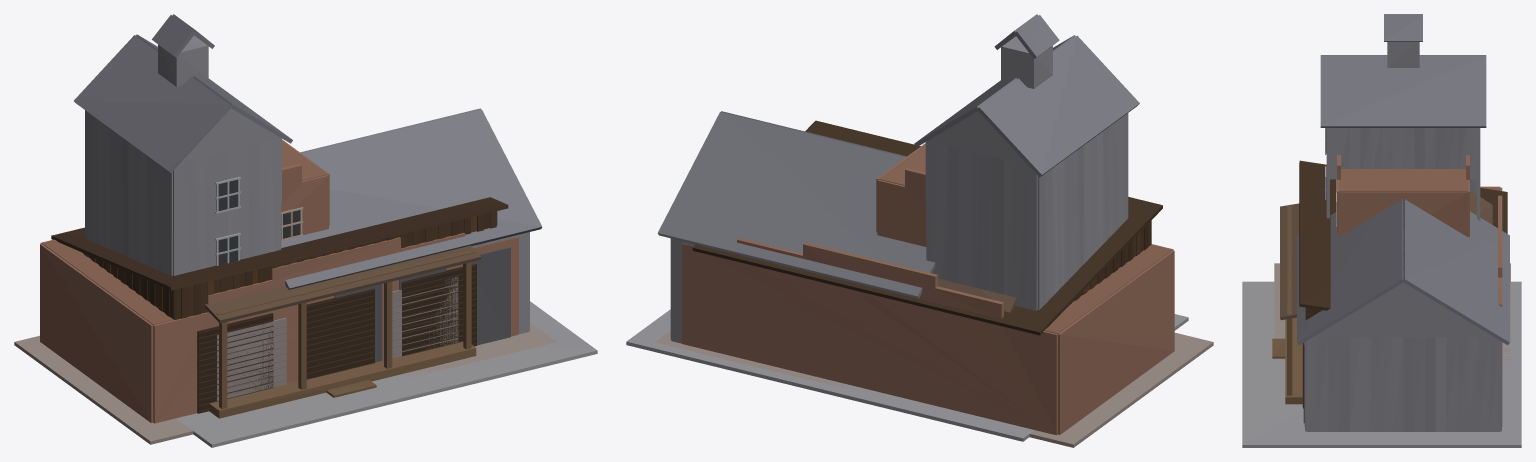
File: BusDesiertoEdificios.gltf
3 renders of one model, left to right at view 1: azimuth 30°, elevation 25°; view 2: azimuth 150°, elevation 25°; view 3: azimuth 270°, elevation 25°, orthographic. The views are drawn at different scales.
Parts seen in each view (by area): view 1: Granero, Garaje, Galpon, Casa; view 2: Granero, Garaje, Galpon, Casa; view 3: Granero, Garaje, Galpon, Casa.
Boxes of the visible parts, x1=… form: Granero: x1=74, y1=14, x2=597, y2=447; Garaje: x1=14, y1=139, x2=557, y2=444; Galpon: x1=51, y1=197, x2=508, y2=413; Casa: x1=205, y1=245, x2=481, y2=418; Granero: x1=626, y1=14, x2=1188, y2=441; Garaje: x1=655, y1=143, x2=1213, y2=447; Galpon: x1=692, y1=120, x2=1162, y2=335; Casa: x1=938, y1=278, x2=1016, y2=313; Granero: x1=1242, y1=14, x2=1521, y2=447; Garaje: x1=1274, y1=155, x2=1510, y2=426; Galpon: x1=1299, y1=160, x2=1507, y2=408; Casa: x1=1272, y1=190, x2=1492, y2=404.
Bounding box in the file's own units: 40 × 30.72 × 26.
